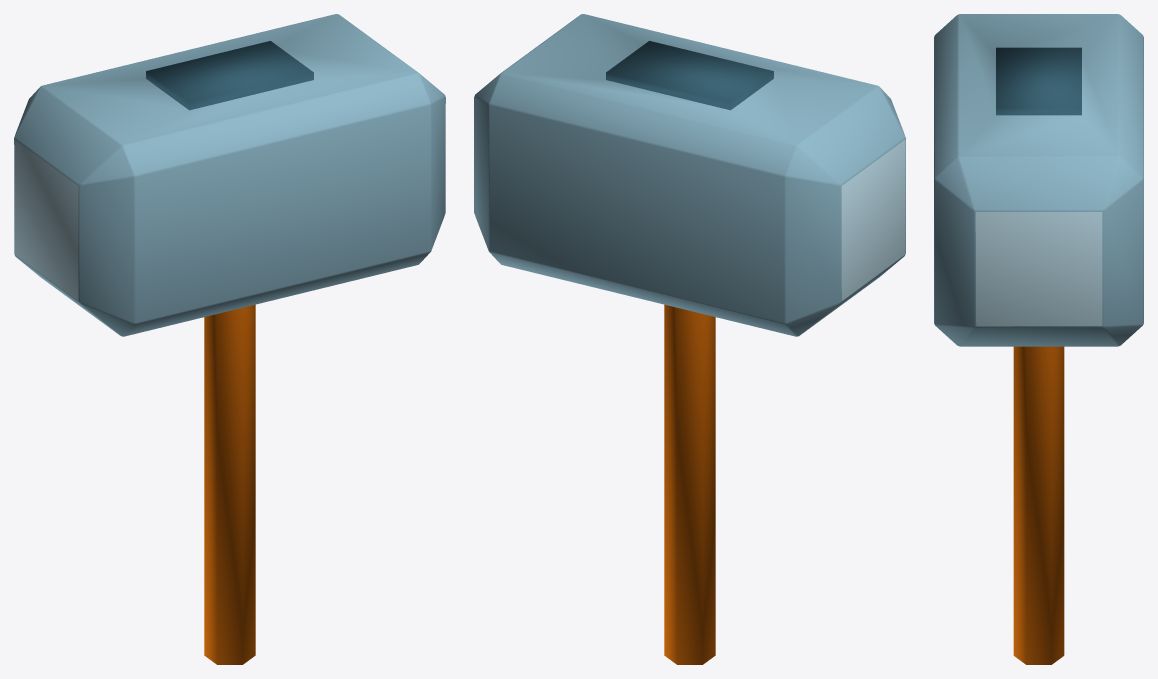
Rendered from Hummer.fbx.
The picture shows the model from 3 angles, left to right: view 1: azimuth 30°, elevation 25°; view 2: azimuth 150°, elevation 25°; view 3: azimuth 270°, elevation 25°; orthographic projection.
Visible parts, largest first — view 1: Hummer; view 2: Hummer; view 3: Hummer.
Part boxes in pixels (x1,y1,x2,y2): Hummer: (14, 14, 445, 664); Hummer: (474, 14, 905, 664); Hummer: (934, 14, 1143, 664).
Size of the model in its own units: 2 by 3.04 by 1.
1 material, 1 textured.
